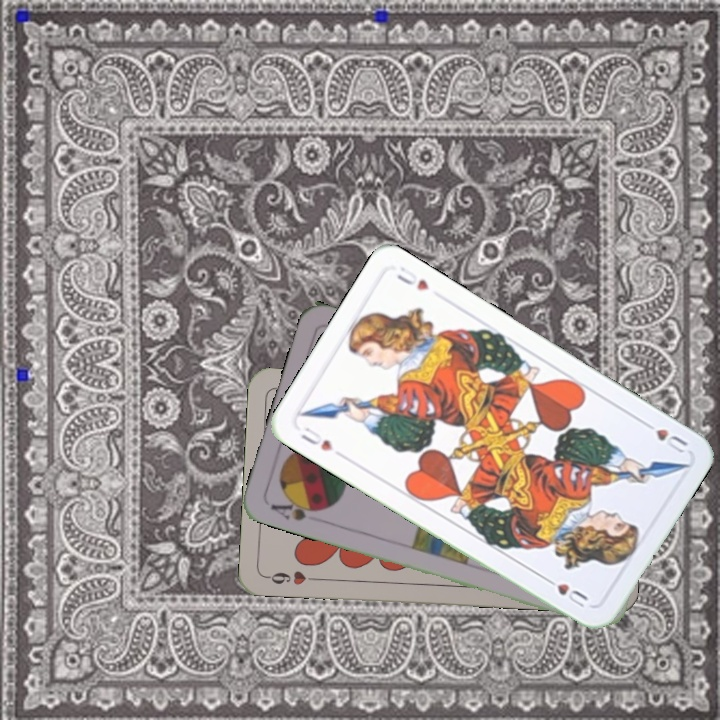H9: (263, 566, 322, 587)
HU: (638, 416, 690, 456), (297, 422, 346, 460)
SA: (266, 494, 326, 523)
